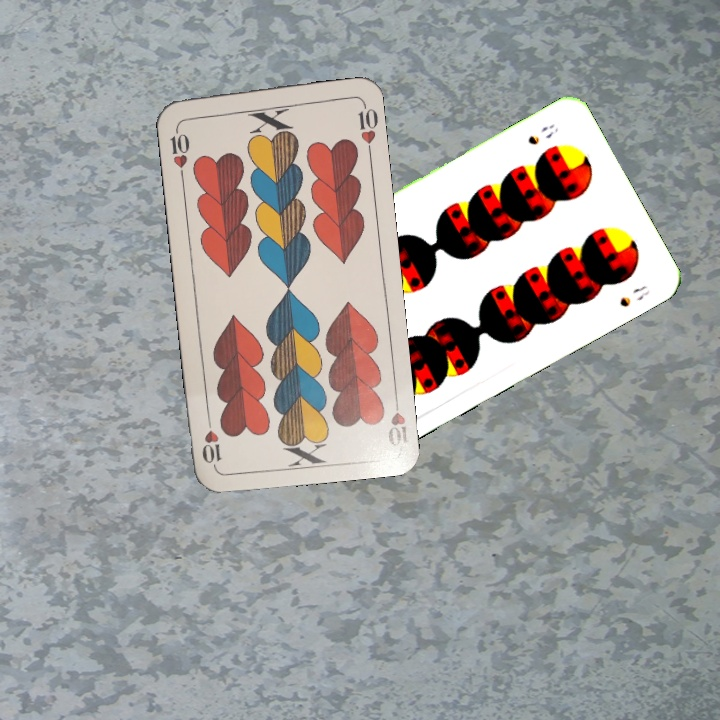H10: (166, 121, 193, 180), (383, 390, 410, 449)
S8: (523, 119, 561, 148)
